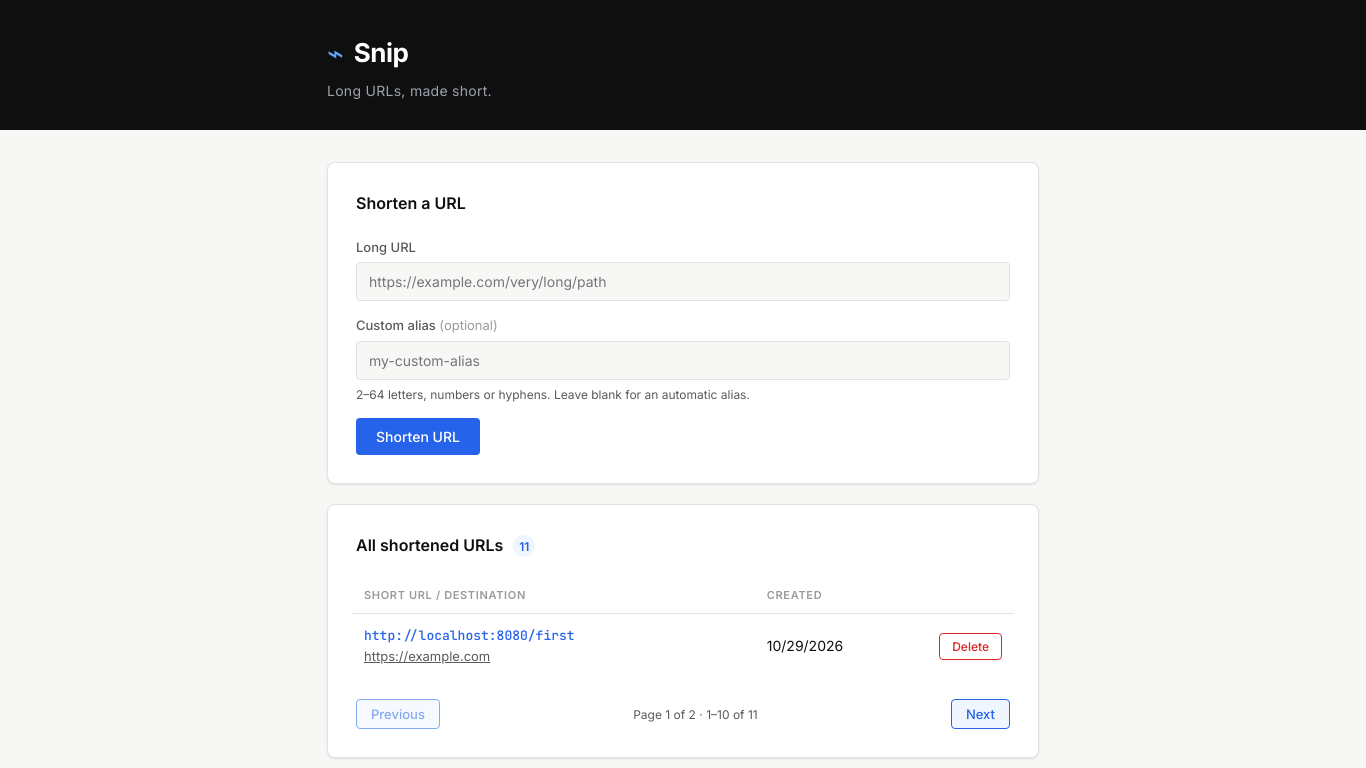
Test case: application behaviour › leaves the row visible when deletion fails
The width and height of the screenshot is (1366, 768).
Step 1. Click the button with aria-label "Delete first" → (971,646), box [939, 633, 1002, 660]
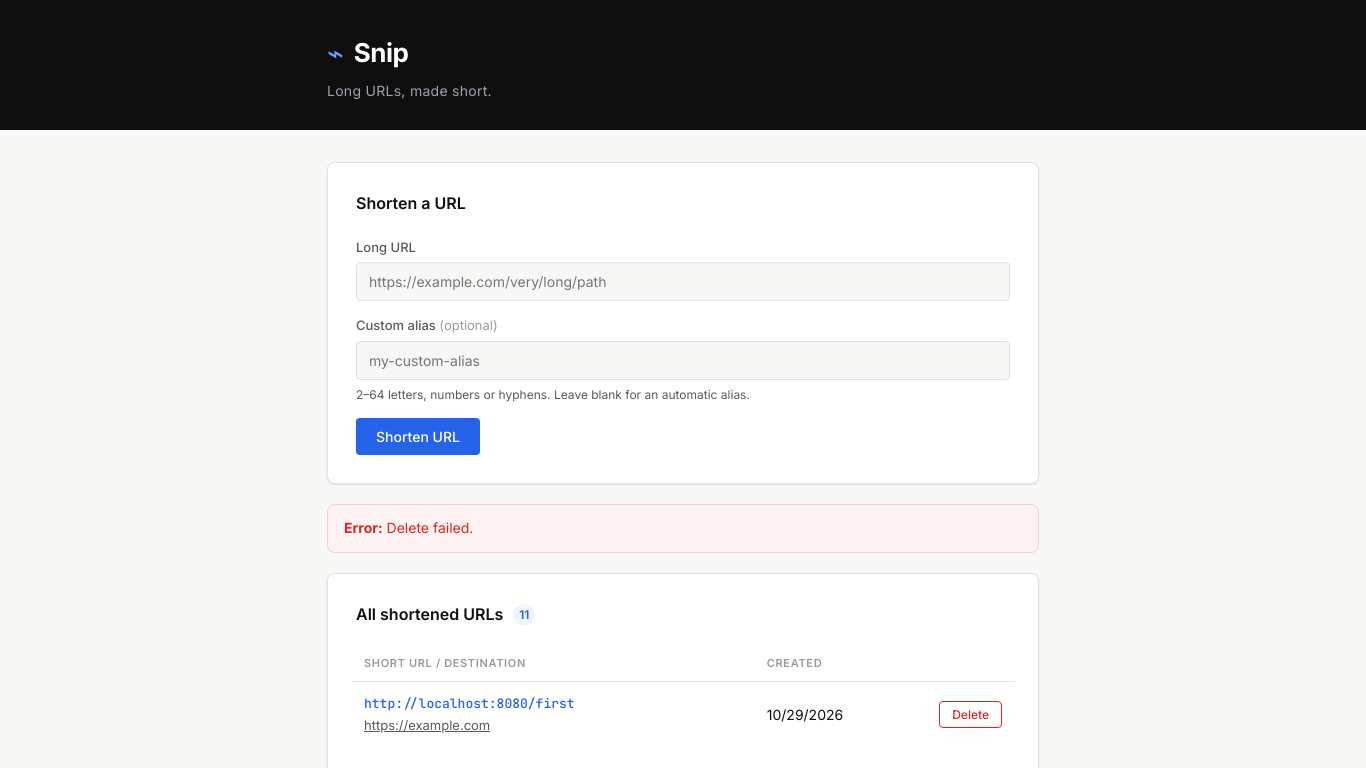
Expected: the button with aria-label "Delete first" is enabled, [939, 701, 1002, 728]
Now the message shows "Delete failed.", box [387, 519, 473, 536]
